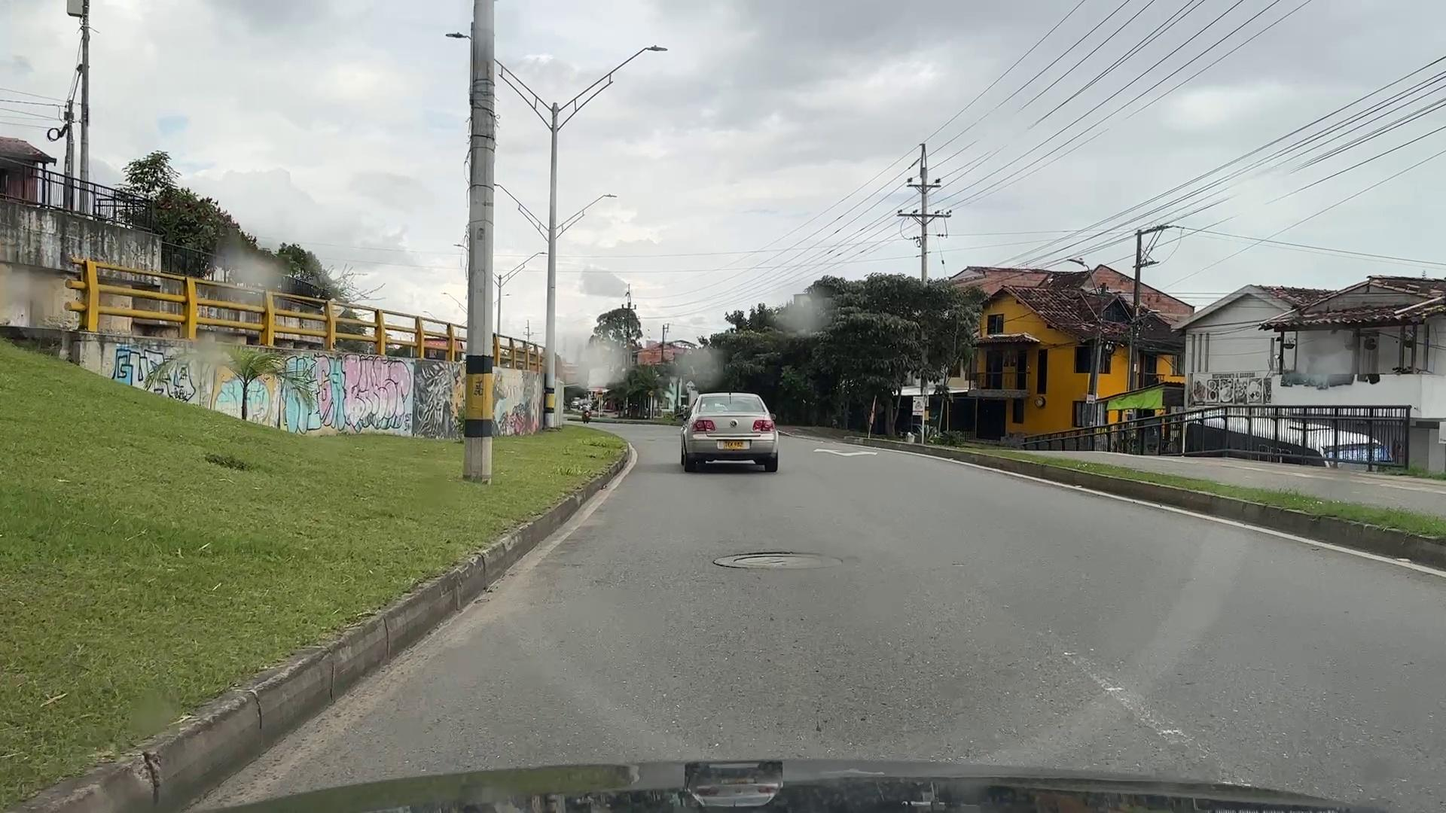registro: (713, 552, 842, 569)
